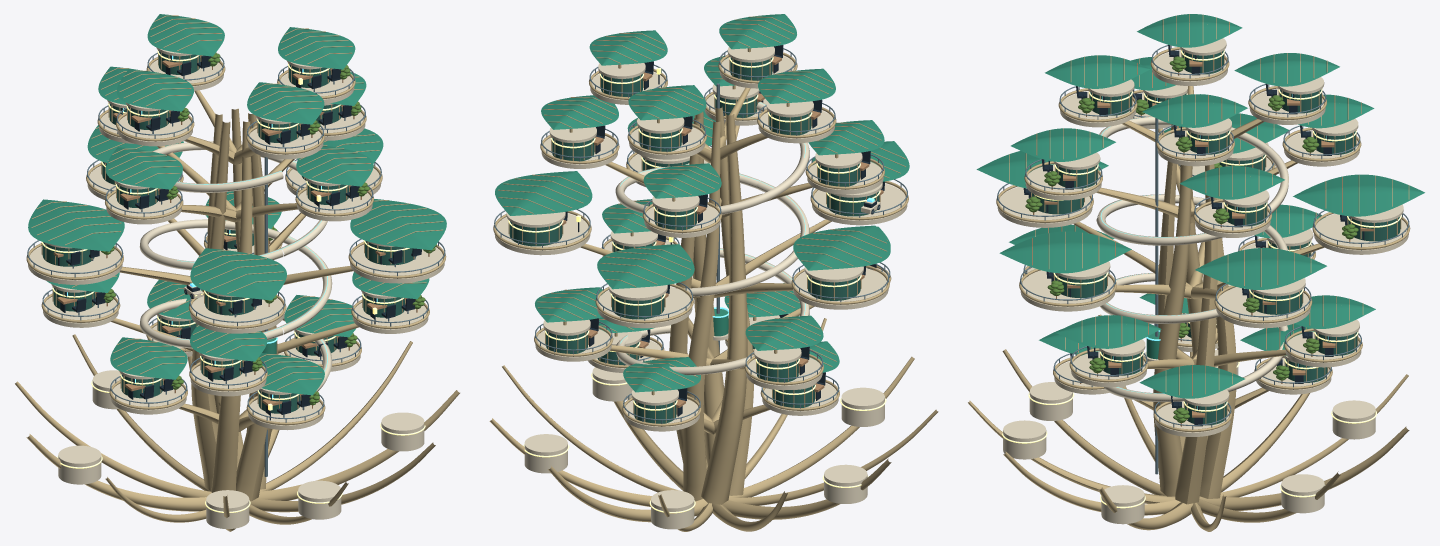
File: opensource.glb
3 views of the same model, side by side, from view 1: azimuth 30°, elevation 25°; view 2: azimuth 150°, elevation 25°; view 3: azimuth 270°, elevation 25° (orthographic).
Visible parts, largest first — view 1: living_ivory_wood, emerald_canopy, ivory, tree_glazing, graphite, steel, warm_lamps, wood, garden_foliage; view 2: living_ivory_wood, ivory, emerald_canopy, tree_glazing, steel, warm_lamps, graphite, wood; view 3: living_ivory_wood, emerald_canopy, ivory, tree_glazing, steel, garden_foliage, graphite, warm_lamps, wood.
Part boxes in pixels (box(x1,y1,x2,y2)): living_ivory_wood: box(15, 15, 459, 531); emerald_canopy: box(28, 14, 446, 395); ivory: box(28, 47, 444, 528); tree_glazing: box(42, 51, 416, 413); graphite: box(58, 55, 421, 420); steel: box(27, 52, 445, 476); warm_lamps: box(41, 50, 425, 512); wood: box(53, 55, 429, 408); garden_foliage: box(101, 52, 436, 405); living_ivory_wood: box(489, 16, 938, 531); ivory: box(494, 46, 907, 529); emerald_canopy: box(495, 14, 909, 392); tree_glazing: box(509, 57, 879, 423); steel: box(494, 48, 907, 426); warm_lamps: box(508, 57, 886, 513); graphite: box(563, 45, 884, 416); wood: box(544, 56, 883, 407); living_ivory_wood: box(968, 14, 1410, 531); emerald_canopy: box(976, 14, 1424, 398); ivory: box(997, 38, 1408, 524); tree_glazing: box(1032, 50, 1400, 425); steel: box(997, 45, 1409, 474); garden_foliage: box(1025, 56, 1358, 422); graphite: box(1023, 45, 1364, 426); warm_lamps: box(1002, 50, 1401, 508); wood: box(1033, 60, 1373, 426).
Bounding box in the file's own units: 15.55 × 17.17 × 15.93.
